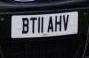A: (47, 15, 54, 33)
B: (21, 17, 30, 34)
H: (62, 14, 69, 31), (55, 15, 62, 32)
I: (37, 17, 41, 34), (41, 16, 44, 33)
T: (29, 17, 37, 34)
